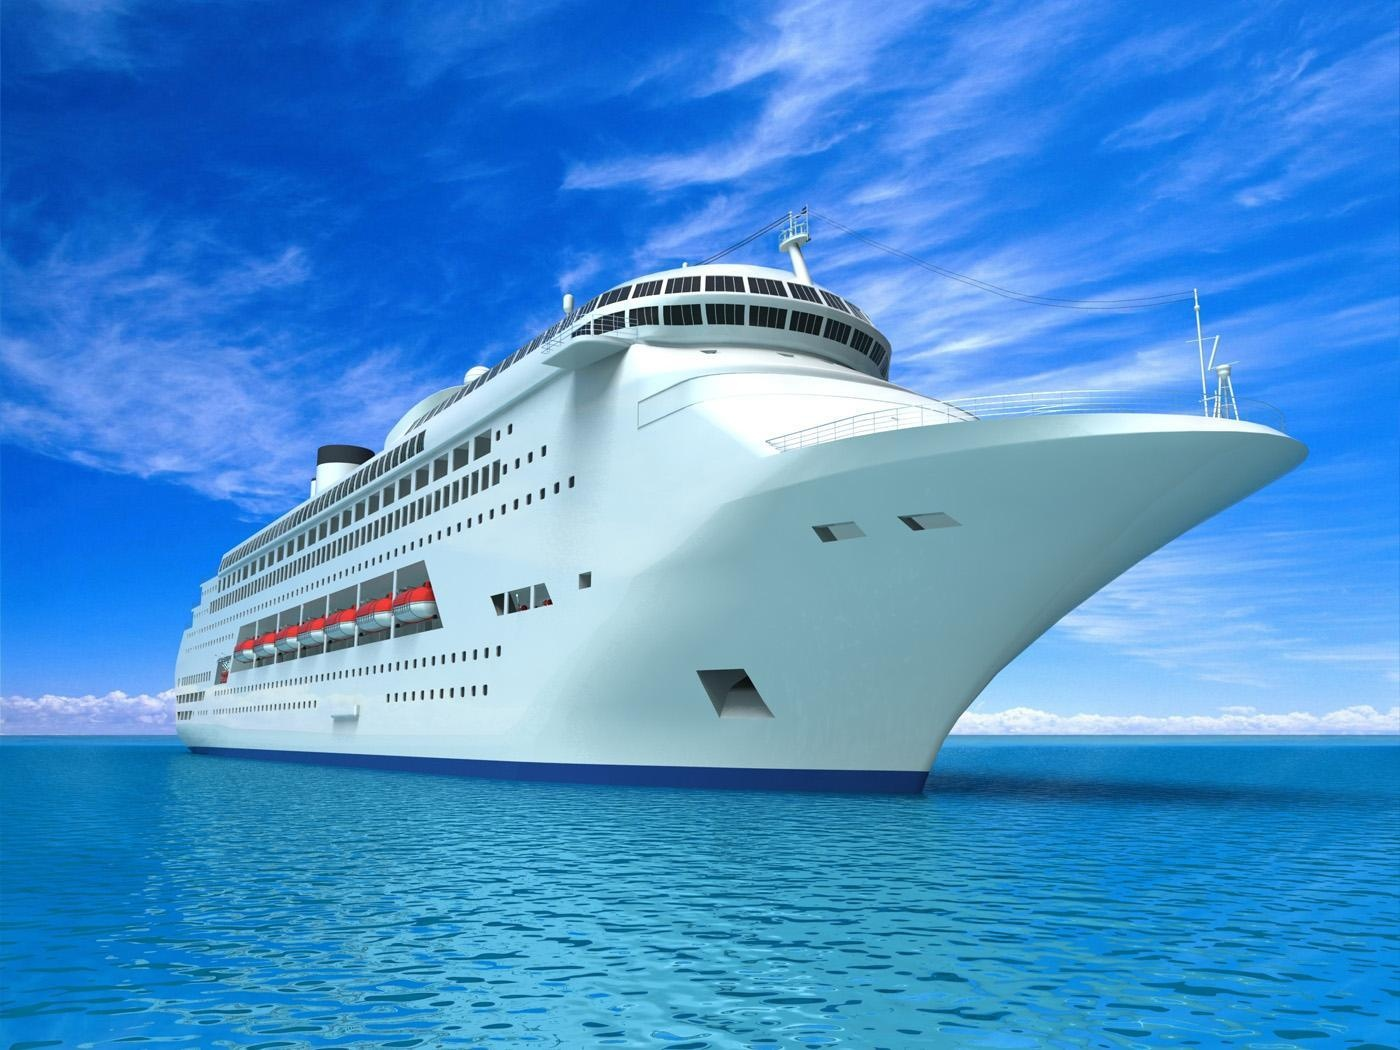youlun: (166, 205, 1309, 762)
